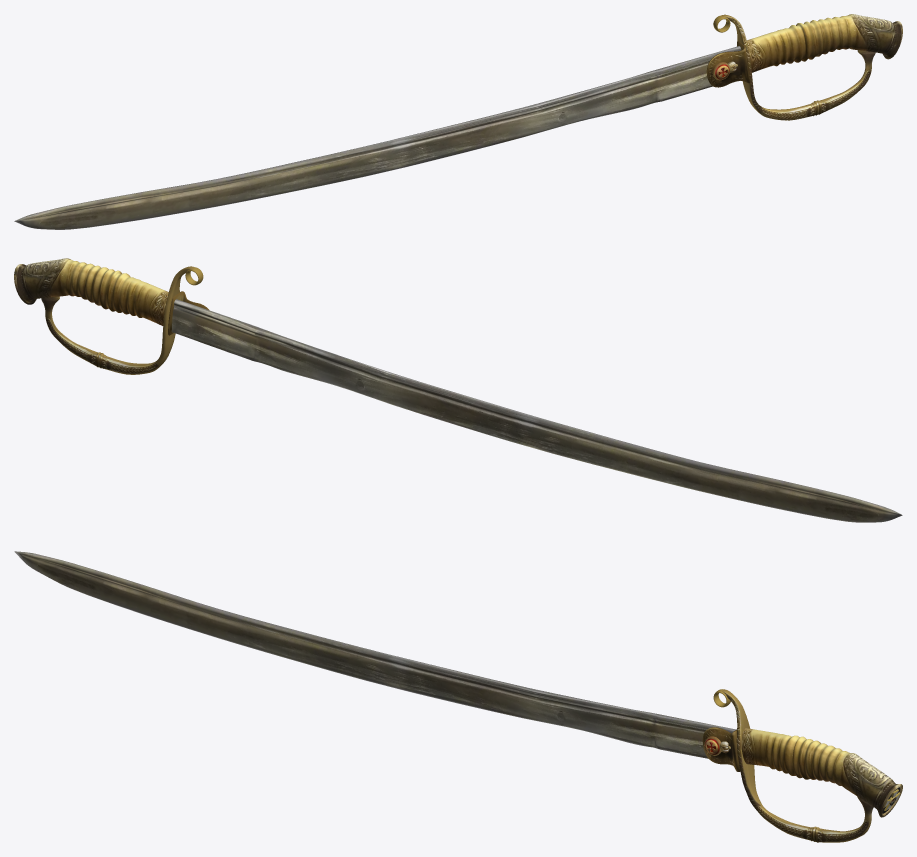
The model's file is epee.glb.
The picture shows the model from 3 angles, top to bottom: view 1: azimuth 30°, elevation 25°; view 2: azimuth 150°, elevation 25°; view 3: azimuth 330°, elevation 25°; orthographic projection. The views are drawn at different scales.
Parts seen in each view (by area): view 1: Object_8, Object_22, Object_20, Object_16; view 2: Object_8, Object_22, Object_20; view 3: Object_8, Object_22, Object_20, Object_16.
Boxes of the visible parts, x1=… form: Object_8: x1=14, y1=46, x2=741, y2=229; Object_22: x1=747, y1=14, x2=902, y2=72; Object_20: x1=721, y1=14, x2=875, y2=120; Object_16: x1=706, y1=41, x2=749, y2=87; Object_8: x1=171, y1=299, x2=902, y2=522; Object_22: x1=14, y1=258, x2=168, y2=325; Object_20: x1=41, y1=266, x2=195, y2=374; Object_8: x1=14, y1=551, x2=736, y2=758; Object_22: x1=741, y1=728, x2=902, y2=817; Object_20: x1=721, y1=689, x2=873, y2=842; Object_16: x1=702, y1=727, x2=740, y2=771.
Size of the model in its own units: 206 by 27.11 by 14.12.
10 materials, 10 textured.
